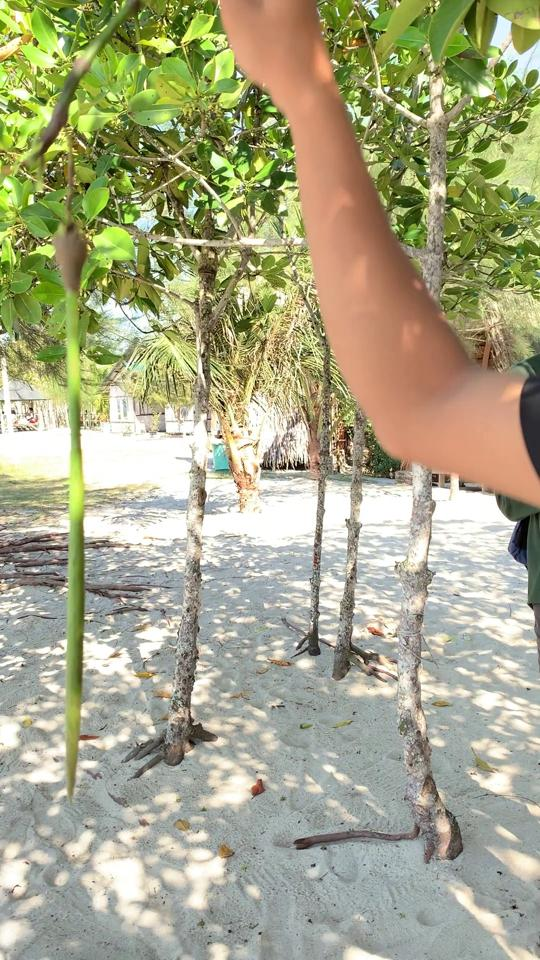setengah matang: (47, 206, 100, 811)
